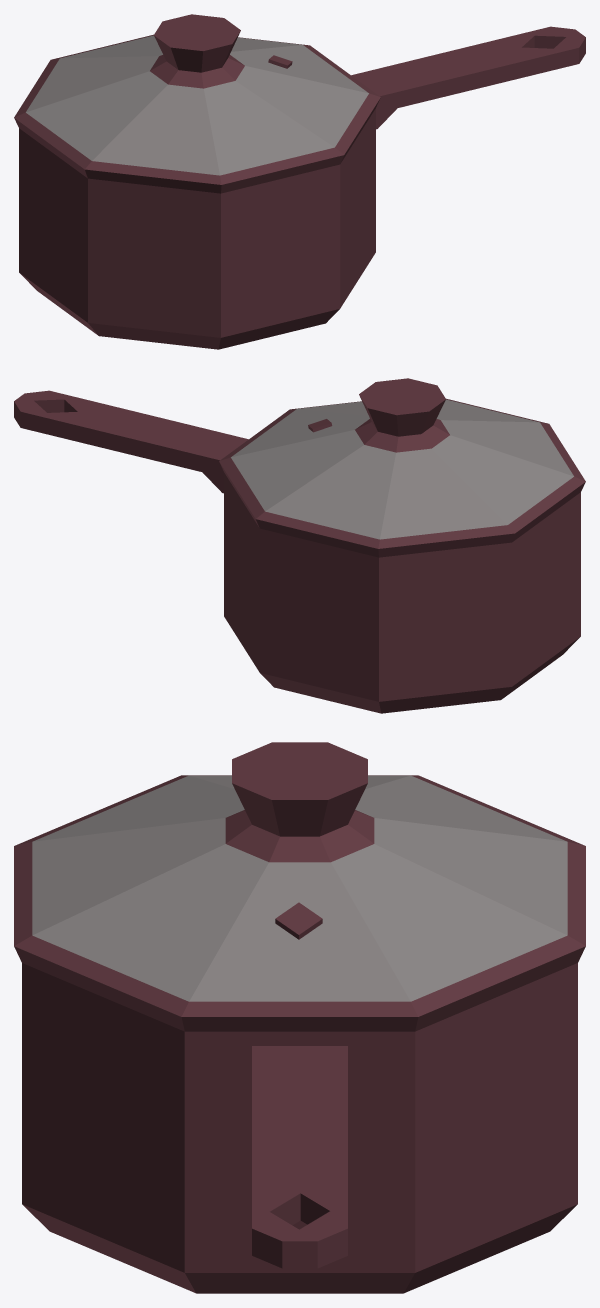
The model's file is pot-lid-small.fbx.
3 views of the same model, one above another, from view 1: azimuth 30°, elevation 25°; view 2: azimuth 150°, elevation 25°; view 3: azimuth 270°, elevation 25° (orthographic). The views are drawn at different scales.
Parts seen in each view (by area): view 1: pot-lid-small; view 2: pot-lid-small; view 3: pot-lid-small.
Boxes of the visible parts, <box> form: pot-lid-small: <box>14,14,585,349</box>; pot-lid-small: <box>14,378,585,713</box>; pot-lid-small: <box>14,742,585,1293</box>.
Size of the model in its own units: 0.2511 by 0.1125 by 0.14.
